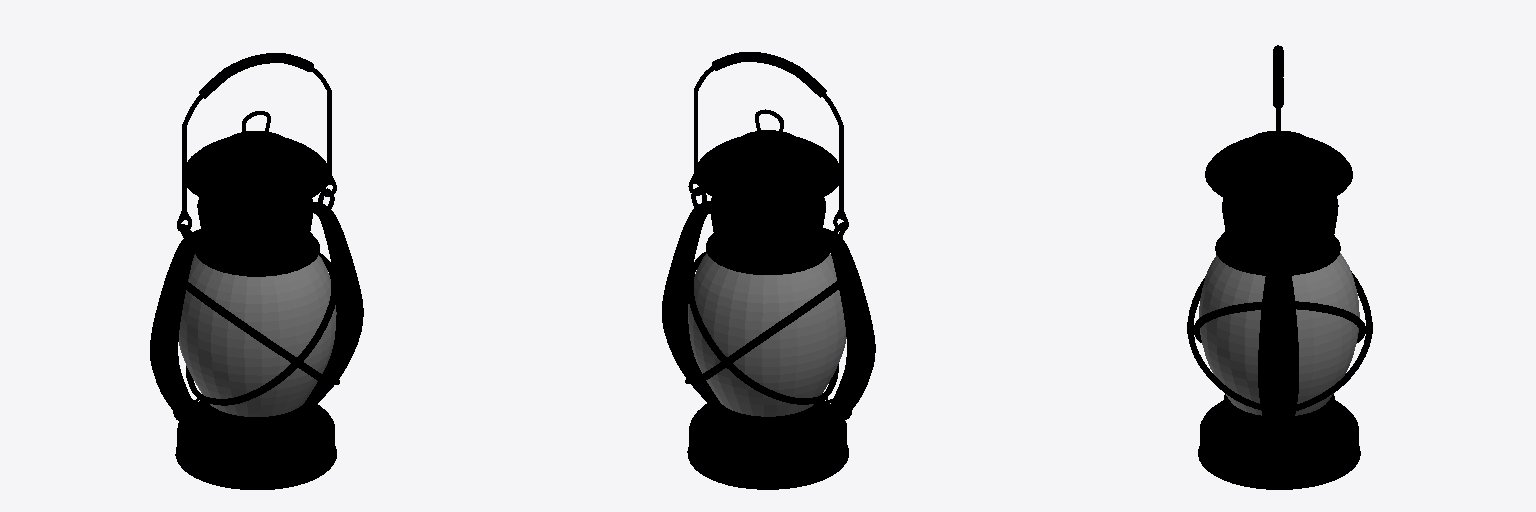
Rendered from OilLamp.obj.
3 renders of one model, left to right at view 1: azimuth 30°, elevation 25°; view 2: azimuth 150°, elevation 25°; view 3: azimuth 270°, elevation 25°, orthographic.
Visible parts, largest first — view 1: GEO MODELS p102_oilLamp00 geo_oillamp_body, GEO MODELS p102_oilLamp00 geo_glass, geo_handle GEO MODELS p102_oilLamp00, GEO MODELS p102_oilLamp00 geo_ring, GEO MODELS p102_oilLamp00 geo_ring1; view 2: GEO MODELS p102_oilLamp00 geo_oillamp_body, GEO MODELS p102_oilLamp00 geo_glass, geo_handle GEO MODELS p102_oilLamp00, GEO MODELS p102_oilLamp00 geo_ring, GEO MODELS p102_oilLamp00 geo_ring1; view 3: GEO MODELS p102_oilLamp00 geo_oillamp_body, GEO MODELS p102_oilLamp00 geo_glass, GEO MODELS p102_oilLamp00 geo_ring1, geo_handle GEO MODELS p102_oilLamp00, GEO MODELS p102_oilLamp00 geo_ring.
Part boxes in pixels (left/top/right/bottom): GEO MODELS p102_oilLamp00 geo_oillamp_body: left=150, top=131, right=363, bottom=489; GEO MODELS p102_oilLamp00 geo_glass: left=179, top=254, right=336, bottom=416; geo_handle GEO MODELS p102_oilLamp00: left=177, top=53, right=336, bottom=232; GEO MODELS p102_oilLamp00 geo_ring: left=173, top=253, right=337, bottom=421; GEO MODELS p102_oilLamp00 geo_ring1: left=186, top=282, right=339, bottom=384; GEO MODELS p102_oilLamp00 geo_oillamp_body: left=662, top=130, right=875, bottom=489; GEO MODELS p102_oilLamp00 geo_glass: left=688, top=253, right=846, bottom=416; geo_handle GEO MODELS p102_oilLamp00: left=688, top=52, right=848, bottom=230; GEO MODELS p102_oilLamp00 geo_ring: left=687, top=252, right=851, bottom=420; GEO MODELS p102_oilLamp00 geo_ring1: left=685, top=281, right=838, bottom=383; GEO MODELS p102_oilLamp00 geo_oillamp_body: left=1198, top=131, right=1360, bottom=489; GEO MODELS p102_oilLamp00 geo_glass: left=1199, top=253, right=1359, bottom=415; GEO MODELS p102_oilLamp00 geo_ring1: left=1187, top=271, right=1372, bottom=438; geo_handle GEO MODELS p102_oilLamp00: left=1273, top=45, right=1283, bottom=249; GEO MODELS p102_oilLamp00 geo_ring: left=1194, top=301, right=1365, bottom=342.
Bounding box in the file's own units: 17.17 × 32.28 × 13.48.